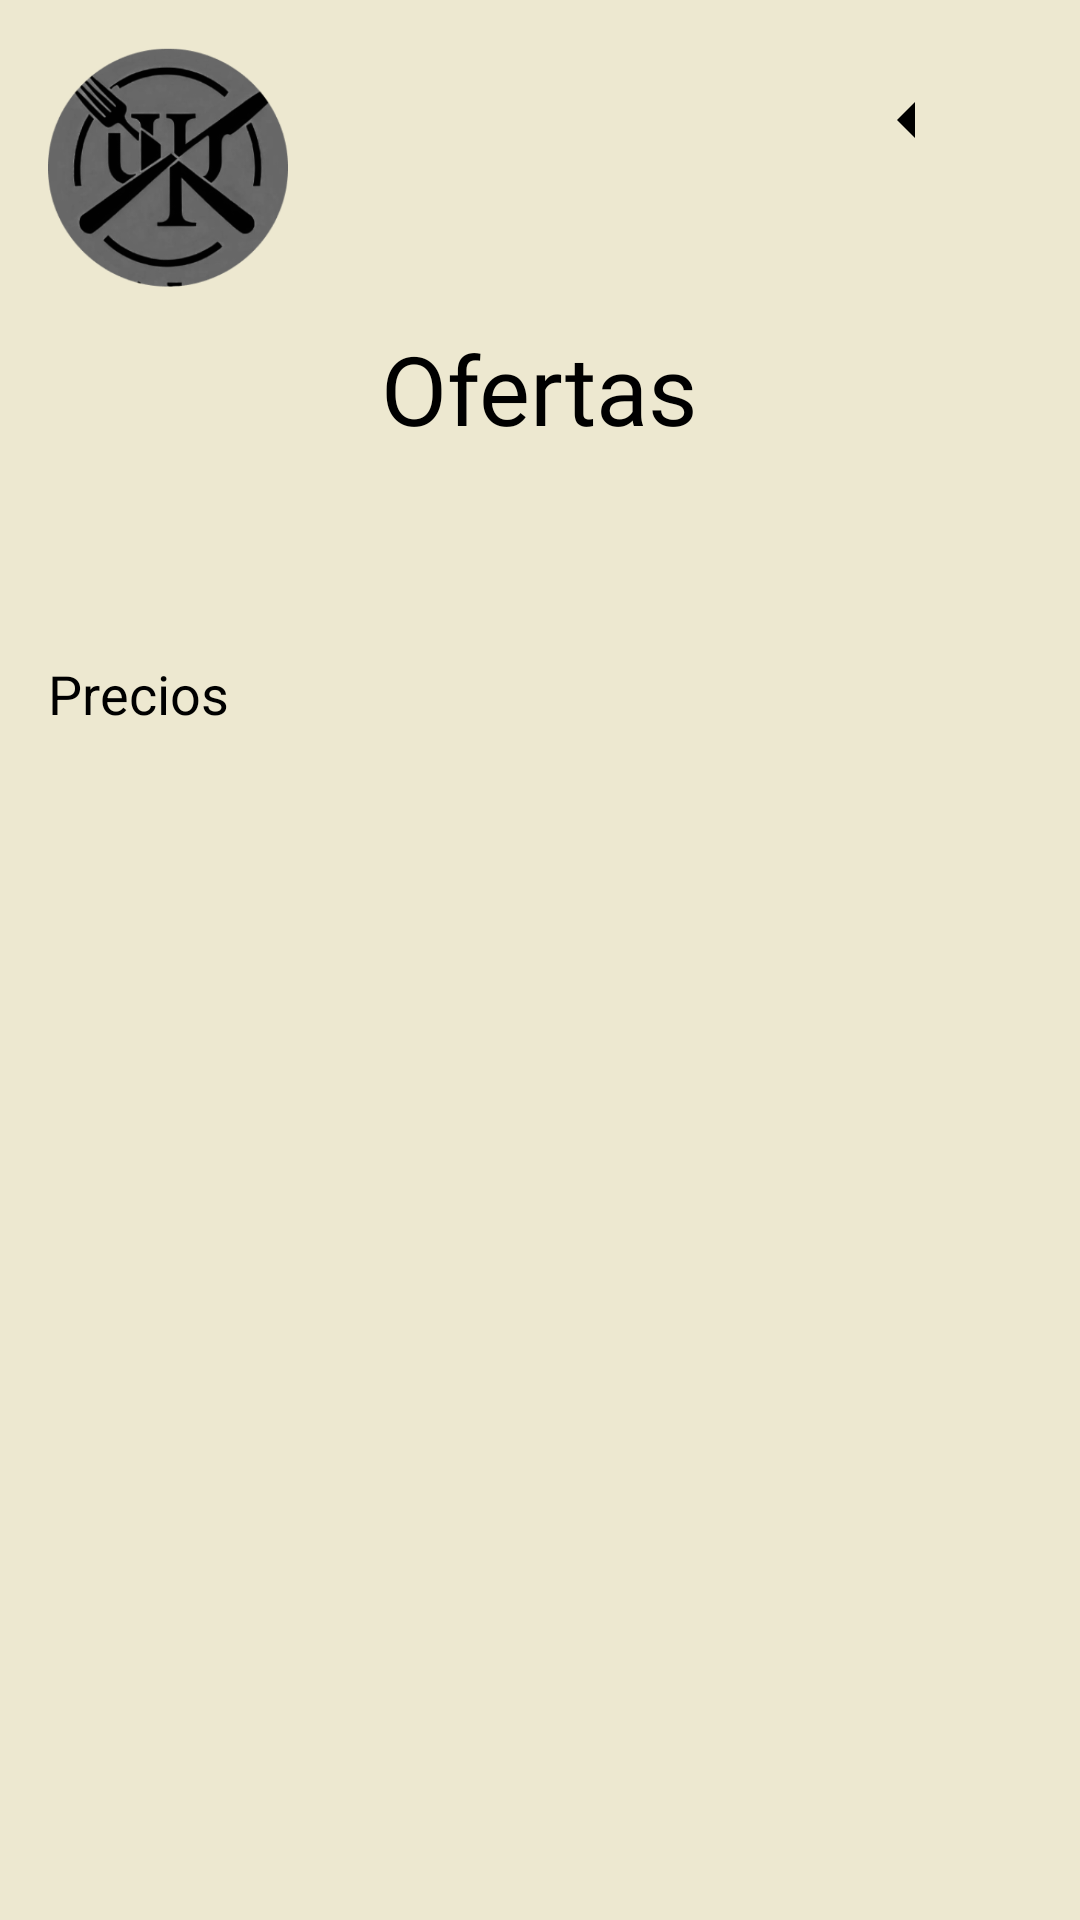

Icons on this 1080w x 1920h Android screen, each with its box as (x1, y1, x2, y2):
Regresar: (897, 102, 915, 138)
